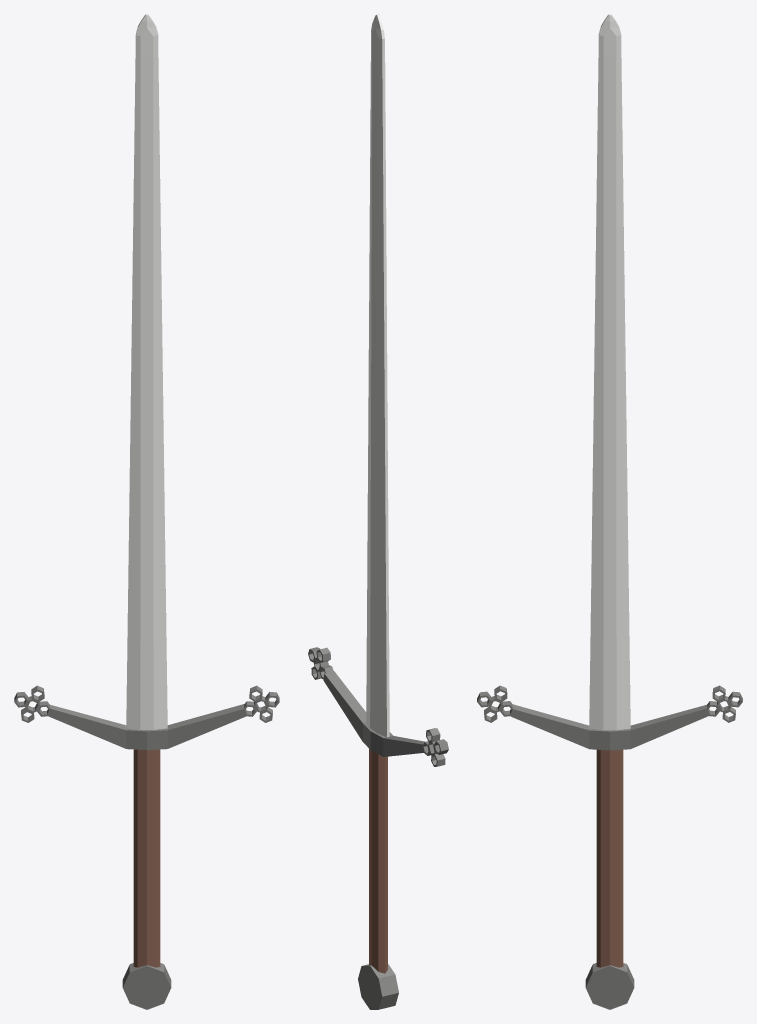
The model's file is ankers-low-poly-medieval-weapons--claymore.glb.
The picture shows the model from 3 angles, left to right: view 1: azimuth 90°, elevation 25°; view 2: azimuth 210°, elevation 25°; view 3: azimuth 270°, elevation 25°; orthographic projection.
Parts seen in each view (by area): view 1: Claymore; view 2: Claymore; view 3: Claymore.
Boxes of the visible parts, left/top/right/bottom form: Claymore: left=14, top=14, right=279, bottom=1009; Claymore: left=308, top=14, right=448, bottom=1009; Claymore: left=477, top=14, right=742, bottom=1009.
Size of the model in its own units: 0.0373 by 2.1 by 0.5109.
